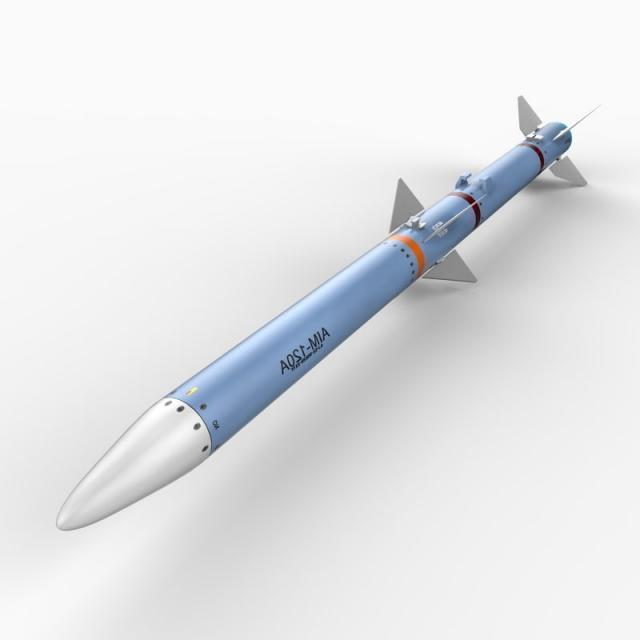missile: (58, 93, 600, 530)
